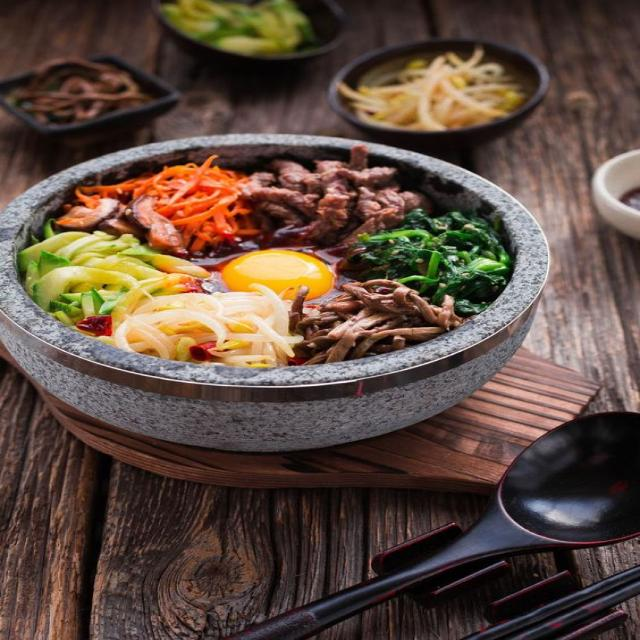Carbohydrate: (282, 272, 461, 356)
Kaow-Yum: (3, 126, 560, 448)
Protein: (237, 144, 430, 237), (212, 238, 341, 304)
Vegetable: (18, 146, 295, 360), (360, 209, 519, 301)
